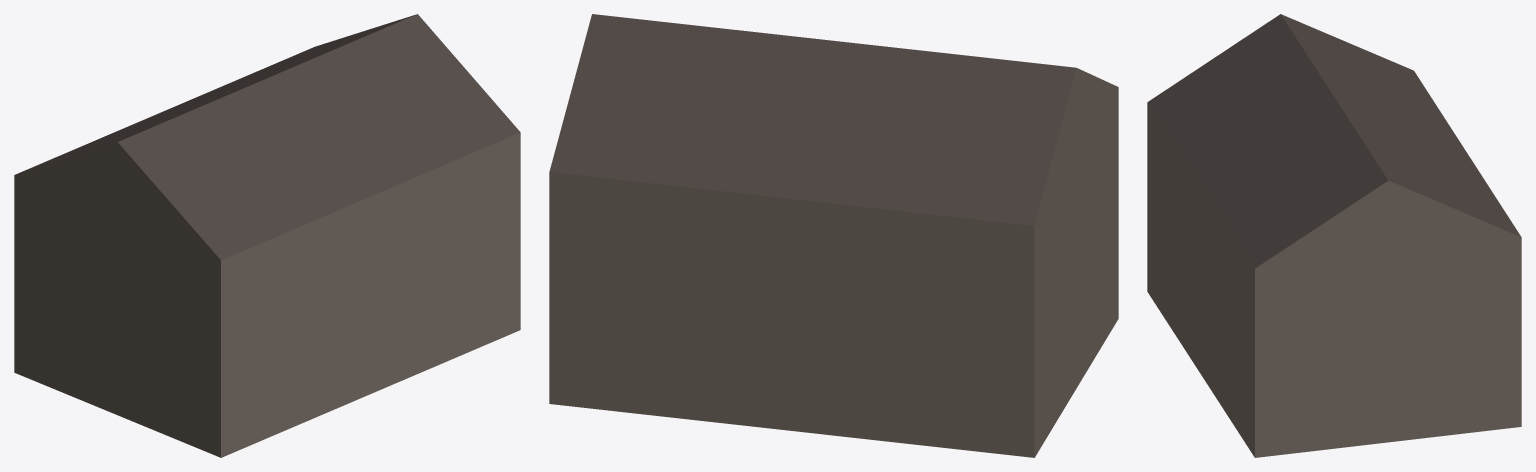
3 renders of one model, left to right at view 1: azimuth 30°, elevation 25°; view 2: azimuth 150°, elevation 25°; view 3: azimuth 270°, elevation 25°, orthographic. The views are drawn at different scales.
Visible parts, largest first — view 1: HP-w1198847851; view 2: HP-w1198847851; view 3: HP-w1198847851.
Boxes of the visible parts, x1,y1,x2,y2 form: HP-w1198847851: (14, 14, 520, 457); HP-w1198847851: (549, 14, 1118, 457); HP-w1198847851: (1147, 14, 1521, 457).
Bounding box in the file's own units: 13.46 × 8.3 × 10.75.
